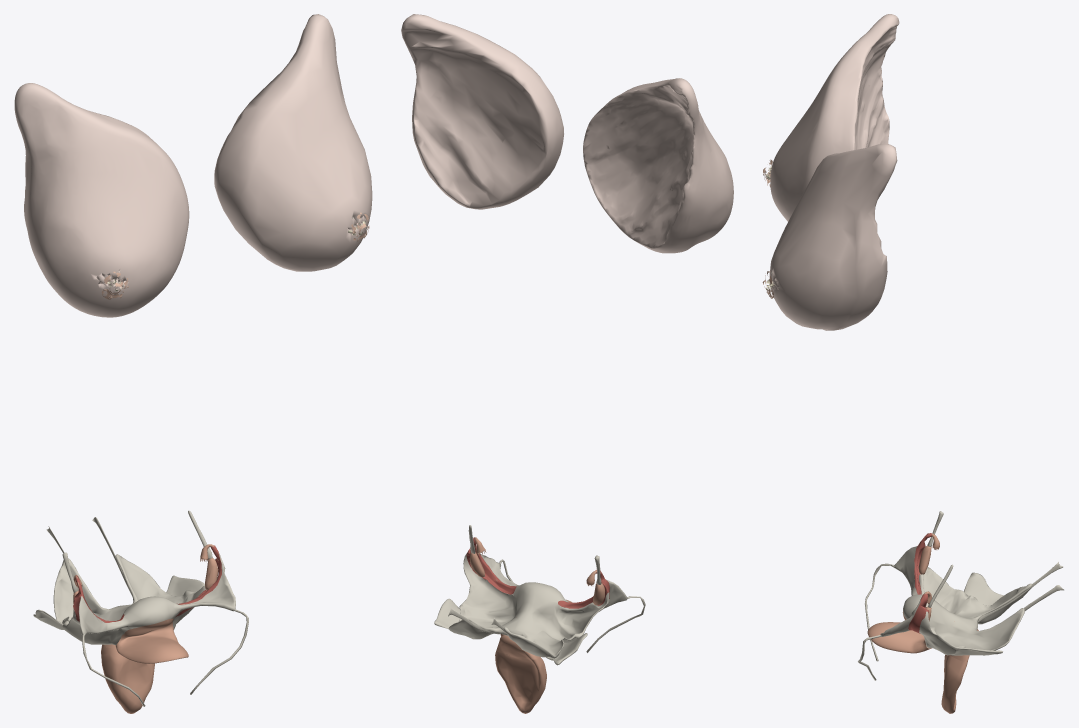
Rendered from adult_female.reproductive.LOD2.glb.
3 renders of one model, left to right at view 1: azimuth 30°, elevation 25°; view 2: azimuth 150°, elevation 25°; view 3: azimuth 270°, elevation 25°, orthographic. The views are drawn at different scales.
Visible parts, largest first — view 1: ADULT.FEMALE.REPRODUCTIVE.MAMMARY_FAT.R, ADULT.FEMALE.REPRODUCTIVE.MAMMARY_FAT.L, ADULT.FEMALE.REPRODUCTIVE.BROAD_LIGAMENT, ADULT.FEMALE.REPRODUCTIVE.VAGINA, ADULT.FEMALE.REPRODUCTIVE.UTEROVESICAL_POUCH; view 2: ADULT.FEMALE.REPRODUCTIVE.MAMMARY_FAT.L, ADULT.FEMALE.REPRODUCTIVE.MAMMARY_FAT.R, ADULT.FEMALE.REPRODUCTIVE.BROAD_LIGAMENT, ADULT.FEMALE.REPRODUCTIVE.VAGINA; view 3: ADULT.FEMALE.REPRODUCTIVE.MAMMARY_FAT.L, ADULT.FEMALE.REPRODUCTIVE.MAMMARY_FAT.R, ADULT.FEMALE.REPRODUCTIVE.BROAD_LIGAMENT, ADULT.FEMALE.REPRODUCTIVE.UTEROVESICAL_POUCH, ADULT.FEMALE.REPRODUCTIVE.VAGINA, ADULT.FEMALE.REPRODUCTIVE.CARDINAL_LIGAMENT_OF_UTERUS.R.
Part boxes in pixels (x1,y1,x2,y2): ADULT.FEMALE.REPRODUCTIVE.MAMMARY_FAT.R: [14, 83, 189, 317]; ADULT.FEMALE.REPRODUCTIVE.MAMMARY_FAT.L: [214, 14, 372, 271]; ADULT.FEMALE.REPRODUCTIVE.BROAD_LIGAMENT: [53, 552, 235, 645]; ADULT.FEMALE.REPRODUCTIVE.VAGINA: [101, 644, 154, 713]; ADULT.FEMALE.REPRODUCTIVE.UTEROVESICAL_POUCH: [115, 618, 188, 663]; ADULT.FEMALE.REPRODUCTIVE.MAMMARY_FAT.L: [401, 14, 563, 209]; ADULT.FEMALE.REPRODUCTIVE.MAMMARY_FAT.R: [583, 78, 733, 253]; ADULT.FEMALE.REPRODUCTIVE.BROAD_LIGAMENT: [448, 552, 627, 658]; ADULT.FEMALE.REPRODUCTIVE.VAGINA: [495, 651, 546, 713]; ADULT.FEMALE.REPRODUCTIVE.MAMMARY_FAT.L: [769, 144, 897, 330]; ADULT.FEMALE.REPRODUCTIVE.MAMMARY_FAT.R: [770, 14, 899, 221]; ADULT.FEMALE.REPRODUCTIVE.BROAD_LIGAMENT: [880, 546, 1031, 655]; ADULT.FEMALE.REPRODUCTIVE.UTEROVESICAL_POUCH: [867, 611, 931, 653]; ADULT.FEMALE.REPRODUCTIVE.VAGINA: [941, 655, 967, 713]; ADULT.FEMALE.REPRODUCTIVE.CARDINAL_LIGAMENT_OF_UTERUS.R: [963, 572, 1003, 605].
Bounding box in the file's own units: 0.2889 × 0.5806 × 0.2496.
